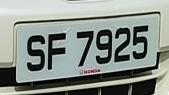2: (113, 25, 132, 67)
5: (131, 21, 149, 65)
7: (75, 28, 96, 72)
9: (95, 27, 114, 67)
F: (45, 28, 68, 76)
S: (23, 29, 48, 77)
